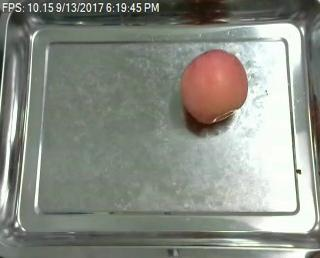apple: (178, 48, 253, 125)
